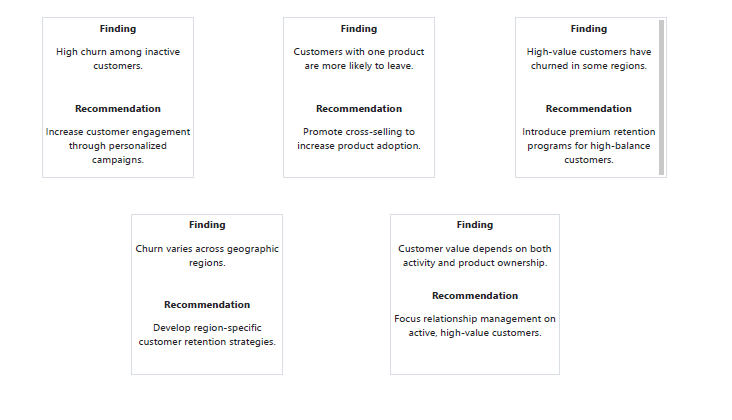

The dashboard page shown, as its layout file describes it:
{"tool":"powerbi","page":{"name":"Recommendations","canvas":[1280,720],"ordinal":5},"visuals":[{"type":"textbox","box":[64,16,272,288],"z":0},{"type":"textbox","box":[496,16,272,288],"z":1},{"type":"textbox","box":[912,16,272,288],"z":2},{"type":"textbox","box":[224,368,272,288],"z":3},{"type":"textbox","box":[688,368,304,288],"z":4}]}

Visuals, with their boxes in screenshot pixels (x1, y1, x2, y2), scaled from the page's 1280x720 canvas onto the 732x420 screenshot:
textbox: box(37, 9, 192, 177)
textbox: box(284, 9, 439, 177)
textbox: box(522, 9, 677, 177)
textbox: box(128, 215, 284, 383)
textbox: box(393, 215, 567, 383)
